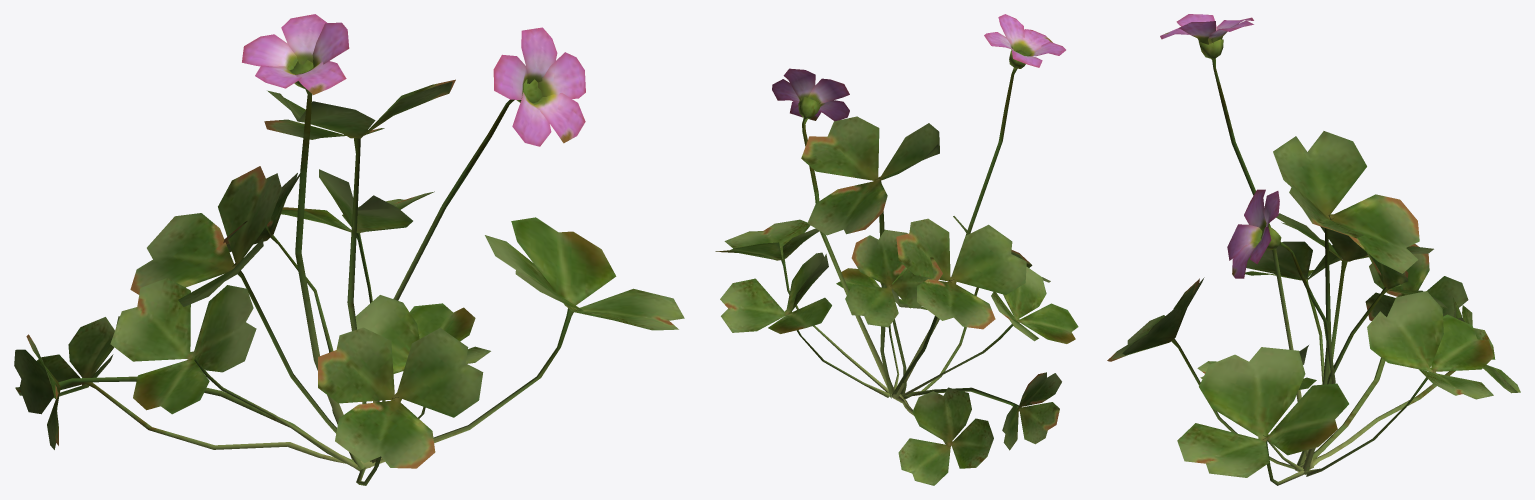
File: shrub-sorrel-01.glb
3 renders of one model, left to right at view 1: azimuth 30°, elevation 25°; view 2: azimuth 150°, elevation 25°; view 3: azimuth 270°, elevation 25°, orthographic. The views are drawn at different scales.
Visible parts, largest first — view 1: shrub_sorrel_01_d; view 2: shrub_sorrel_01_d; view 3: shrub_sorrel_01_d.
Part boxes in pixels (<box>): shrub_sorrel_01_d: <box>14,14,684,485</box>; shrub_sorrel_01_d: <box>715,14,1078,485</box>; shrub_sorrel_01_d: <box>1107,14,1520,485</box>.
Bounding box in the file's own units: 0.0609 × 0.0544 × 0.0487.
1 material, 1 textured.
